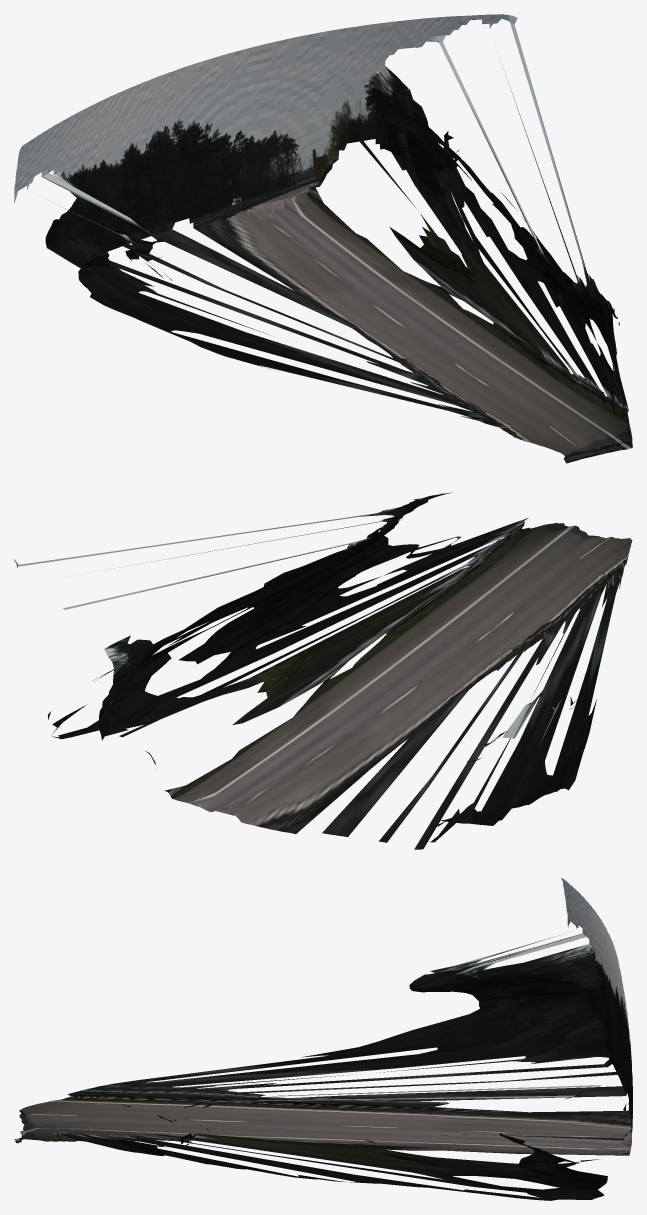
3 views of the same model, one above another, from view 1: azimuth 30°, elevation 25°; view 2: azimuth 150°, elevation 25°; view 3: azimuth 270°, elevation 25° (orthographic). The views are drawn at different scales.
Parts seen in each view (by area): view 1: defaultobject; view 2: defaultobject; view 3: defaultobject.
Part boxes in pixels (x1,y1,x2,y2): defaultobject: (14, 14, 632, 463); defaultobject: (14, 492, 632, 849); defaultobject: (14, 878, 632, 1200).
Bounding box in the file's own units: 37.48 × 12.21 × 44.67.
Materials: 1 (1 with a texture image).
